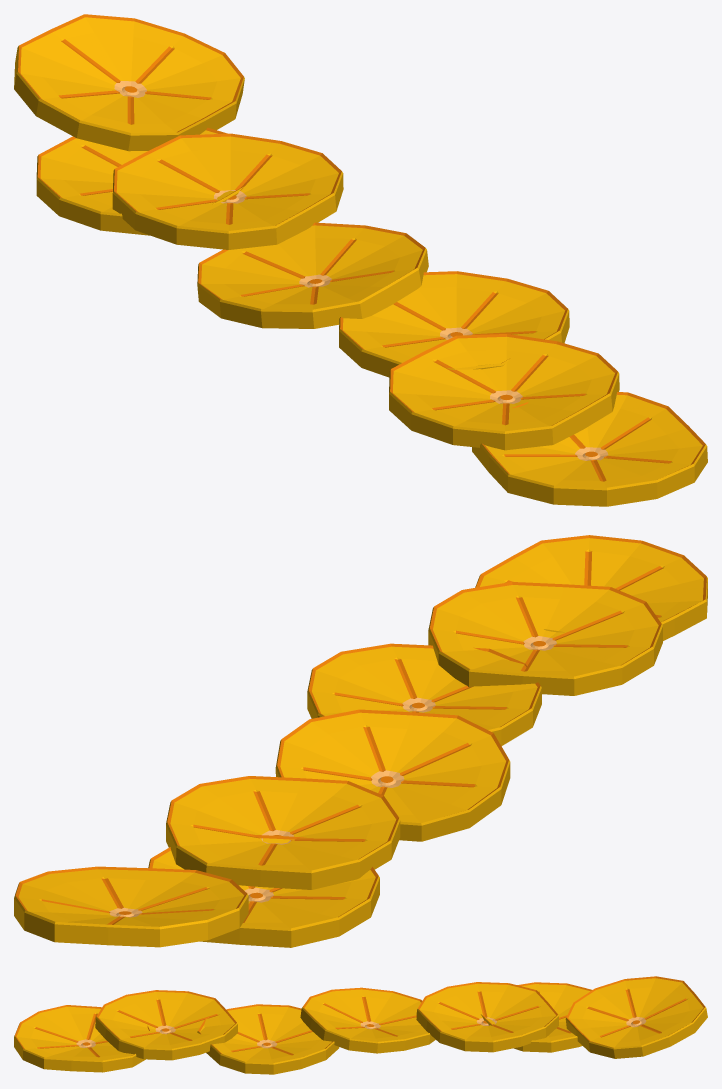
Rendered from DriedFood01.fbx.
3 renders of one model, top to bottom at view 1: azimuth 30°, elevation 25°; view 2: azimuth 150°, elevation 25°; view 3: azimuth 270°, elevation 25°, orthographic. The views are drawn at different scales.
Parts seen in each view (by area): view 1: Driedfood01; view 2: Driedfood01; view 3: Driedfood01.
Part boxes in pixels (x1=…): Driedfood01: x1=14, y1=14, x2=707, y2=506; Driedfood01: x1=14, y1=535, x2=707, y2=947; Driedfood01: x1=14, y1=976, x2=707, y2=1074.
Bounding box in the file's own units: 4.95 × 1.18 × 17.96.
